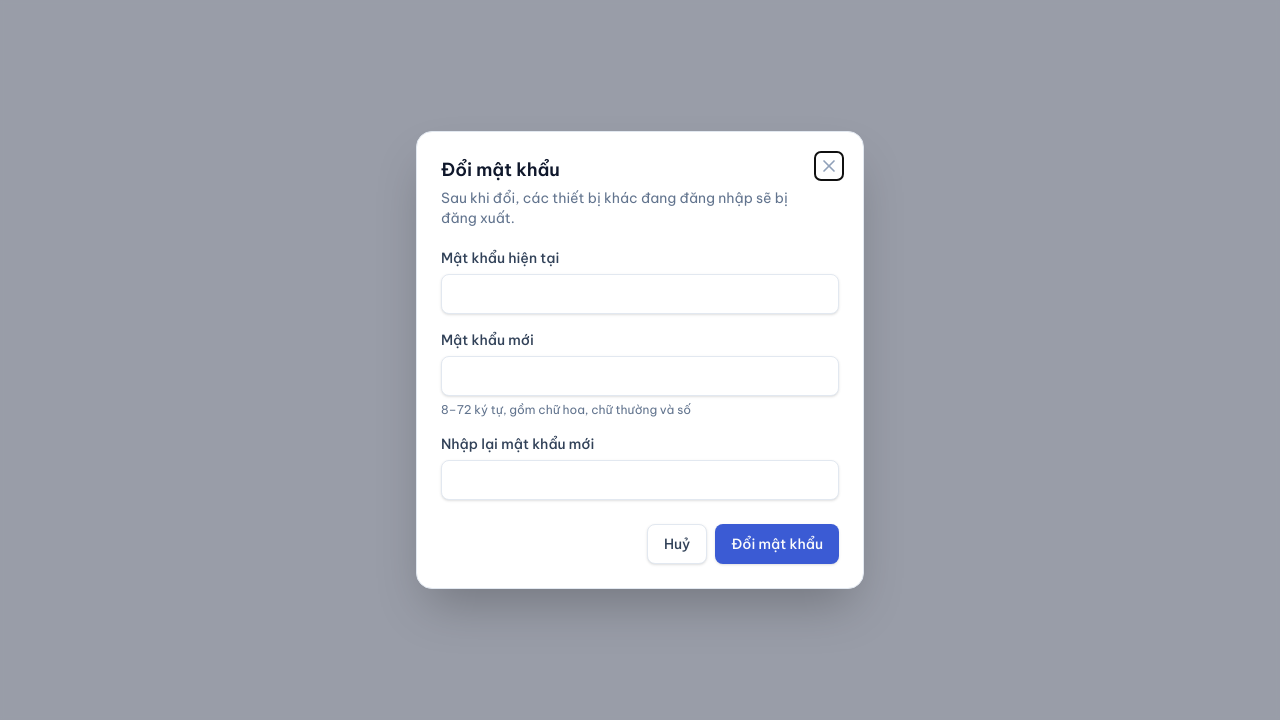
ChangePasswordDialog › validates on the client, then shows WRONG_PASSWORD at the current password field
Step 1. Type "Sai@1234" into the password field labelled "Mật khẩu hiện tại" → (640, 294), box [441, 274, 839, 314]
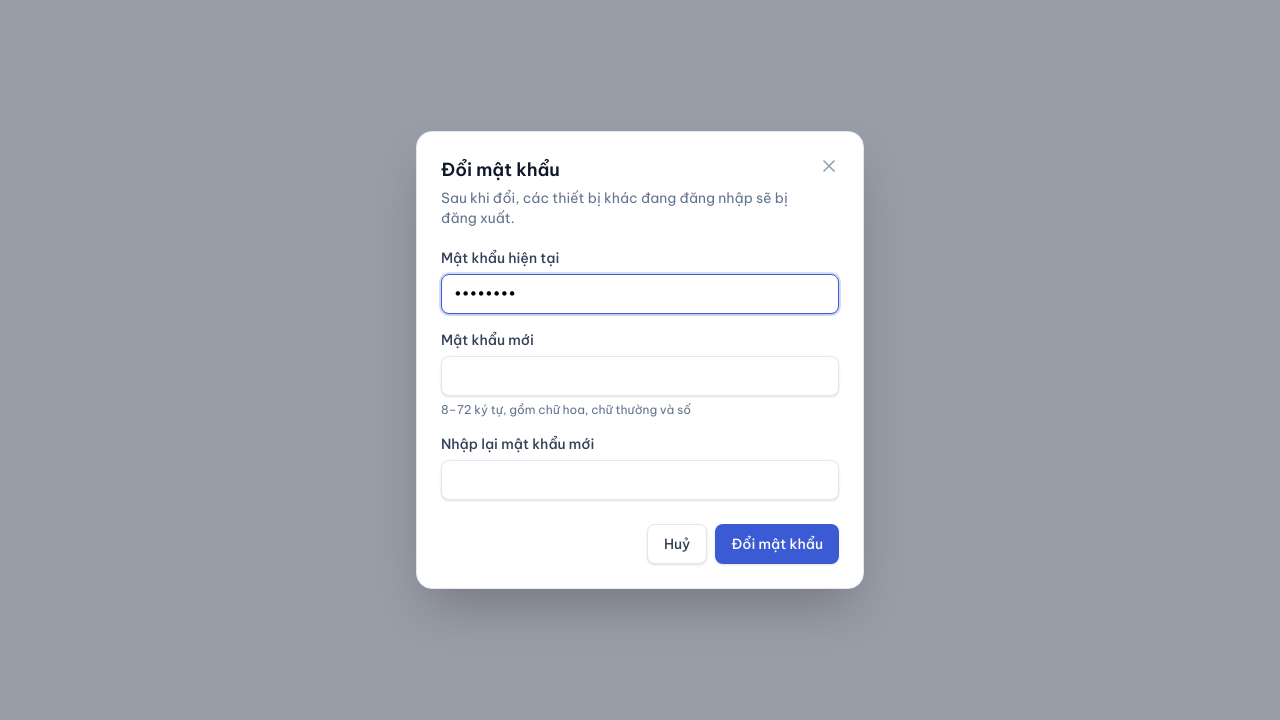
Step 2. Type "Moi@12345" into the password field labelled "Mật khẩu mới" → (640, 376), box [441, 356, 839, 396]
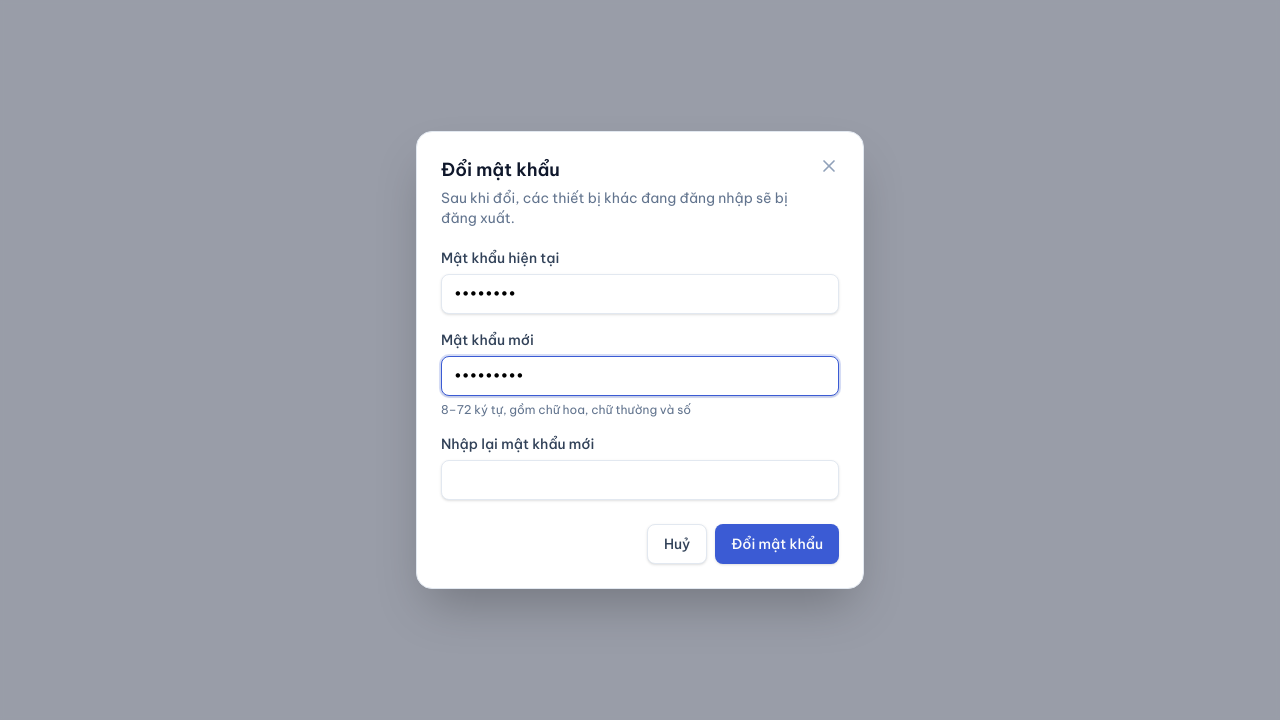
Step 3. Type "Khac@12345" into the password field labelled "Nhập lại mật khẩu mới" → (640, 480), box [441, 460, 839, 500]
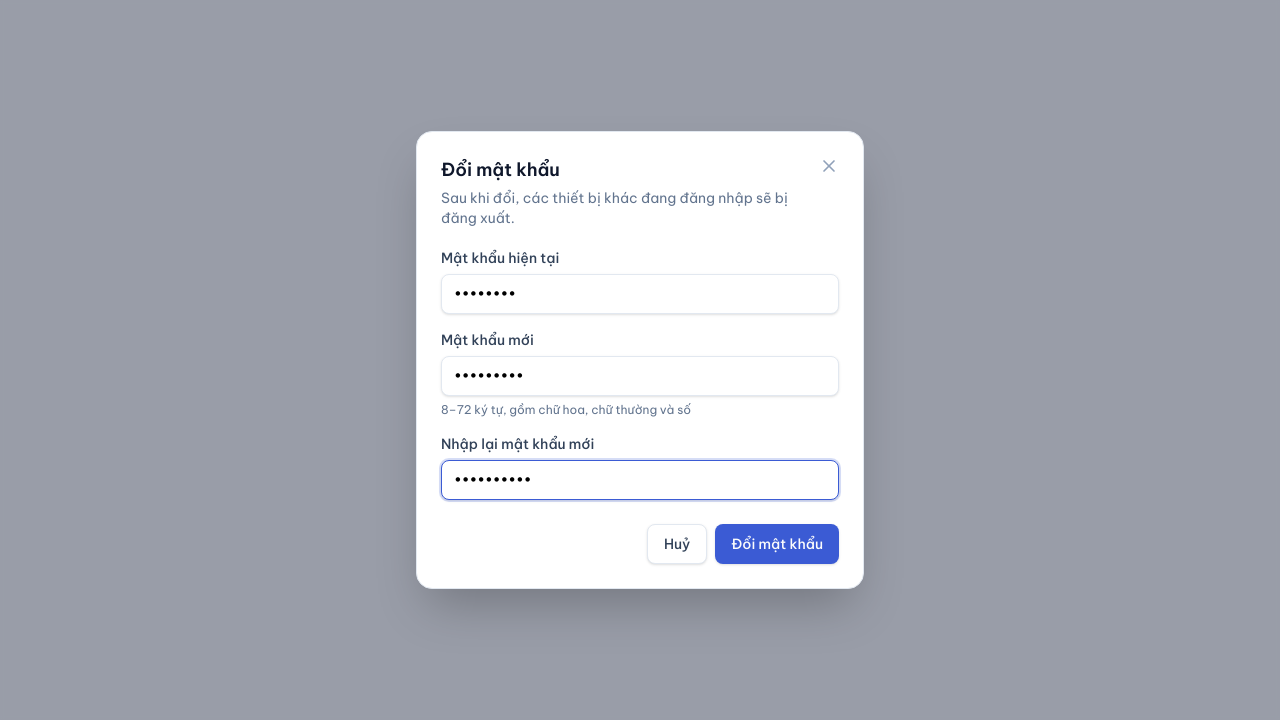
Step 4. Click the button "Đổi mật khẩu" → click(777, 544), box [715, 524, 839, 564]
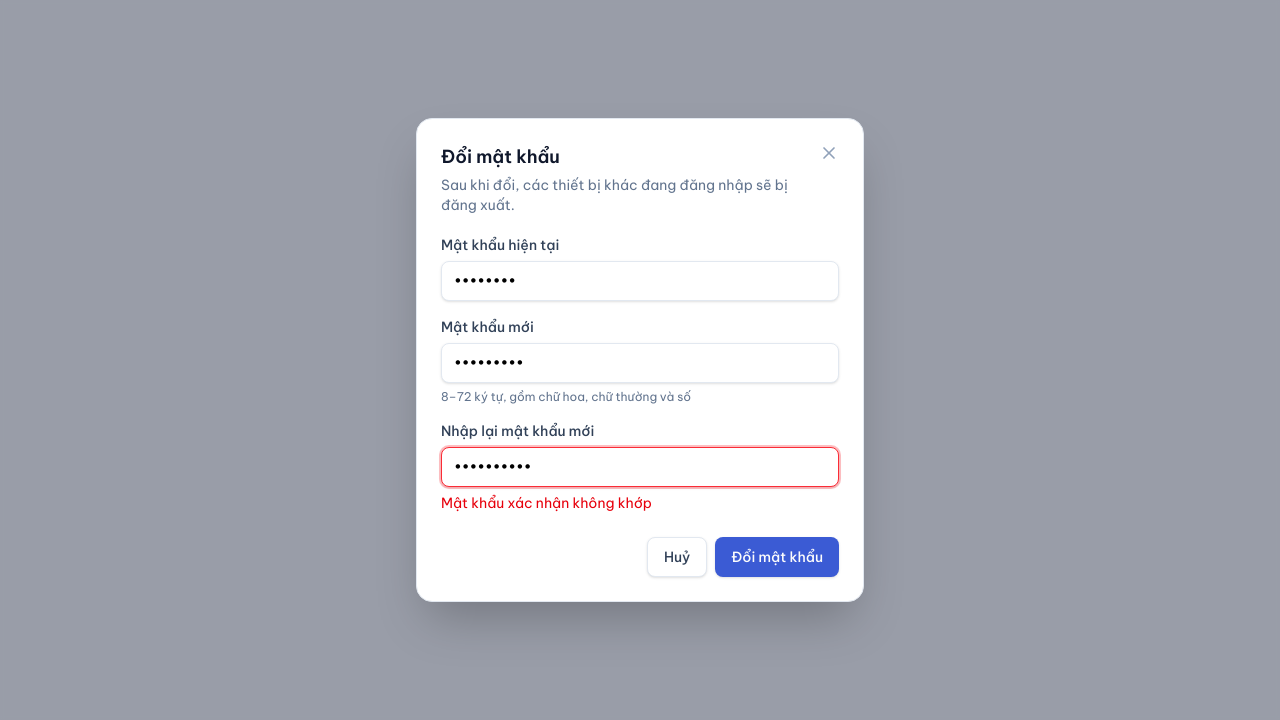
Expected: the text "Mật khẩu xác nhận không khớp" is shown, [441, 494, 652, 512]
Step 5. Type "Moi@12345" into the password field labelled "Nhập lại mật khẩu mới" → (640, 467), box [441, 447, 839, 487]
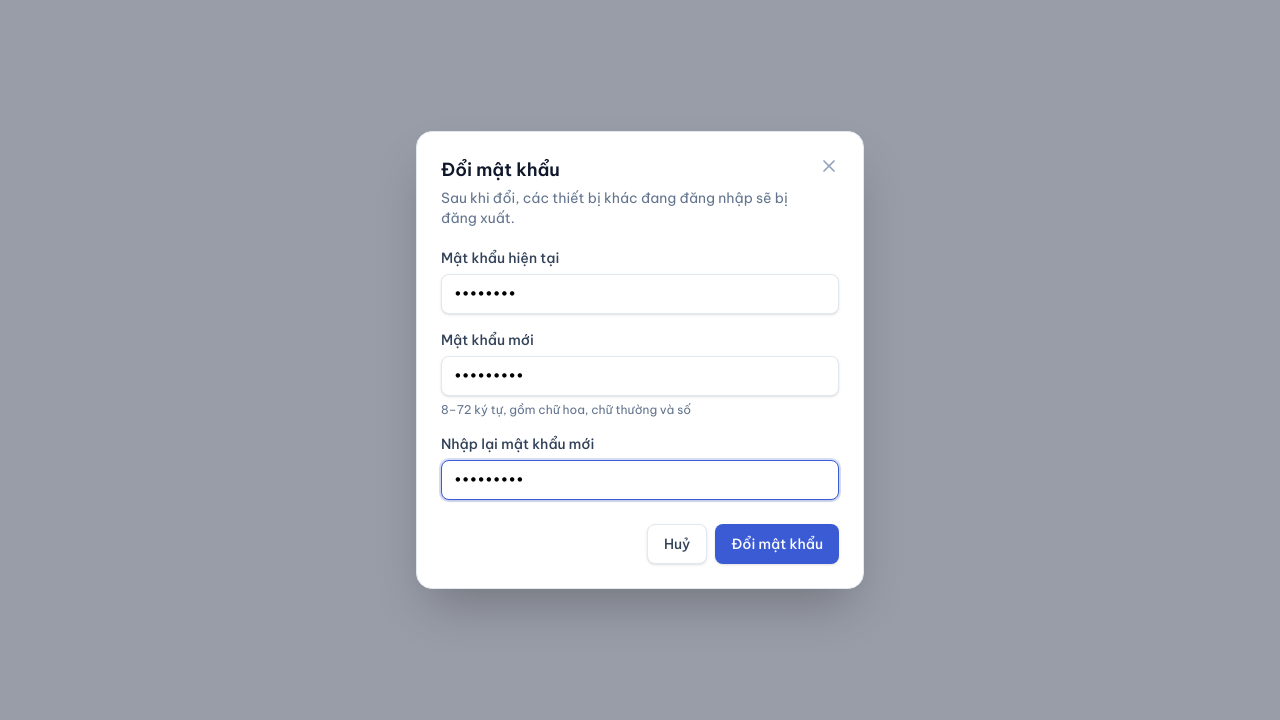
Step 6. Click the button "Đổi mật khẩu" → click(777, 544), box [715, 524, 839, 564]
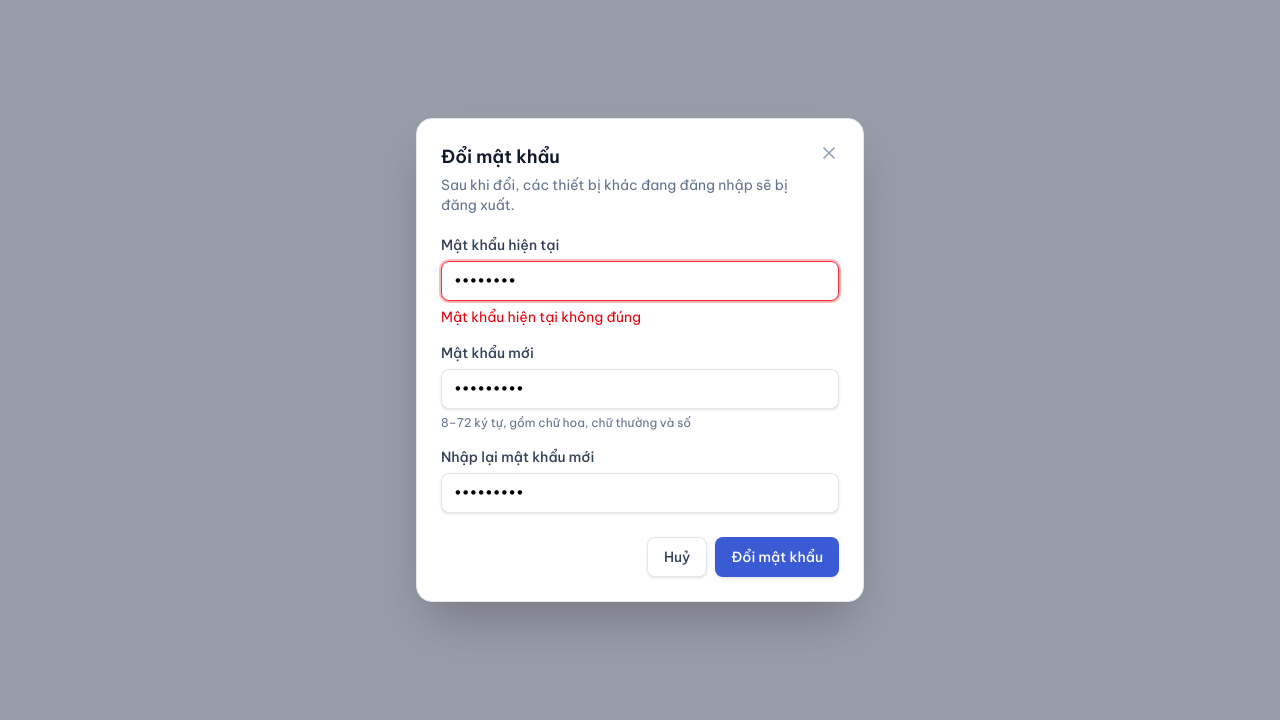
Expected: the text "Mật khẩu hiện tại không đúng" is shown, [441, 308, 641, 326]
